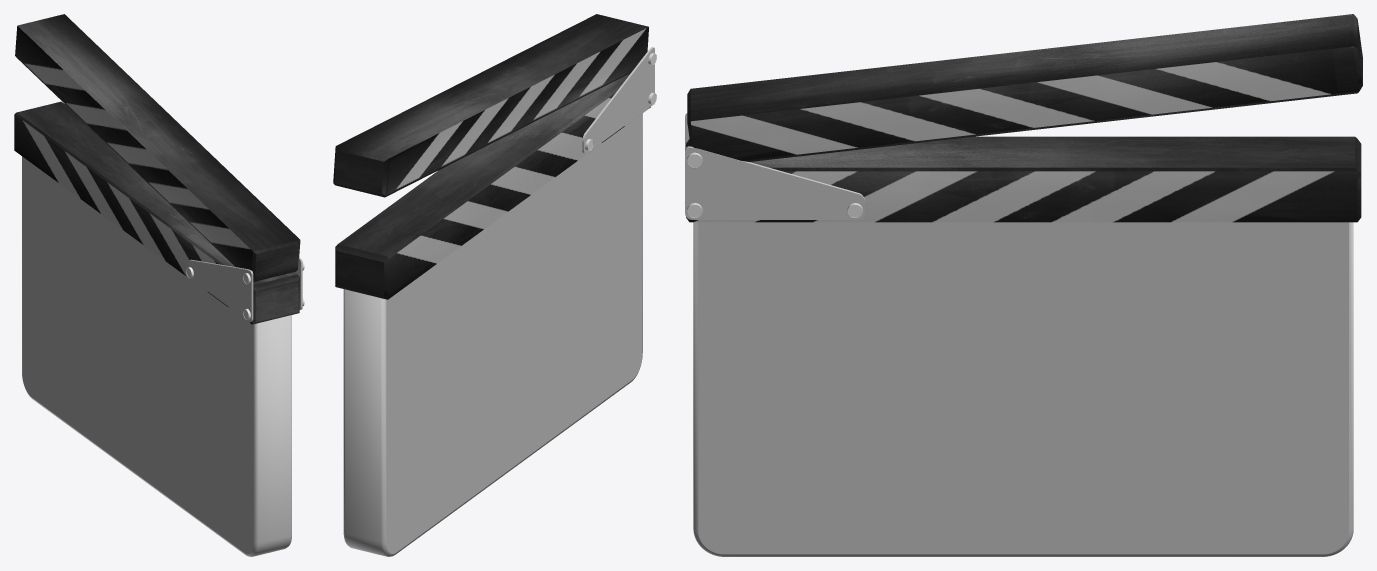
File: klaps2.fbx
The picture shows the model from 3 angles, left to right: view 1: azimuth 30°, elevation 25°; view 2: azimuth 150°, elevation 25°; view 3: azimuth 270°, elevation 25°; orthographic projection. The views are drawn at different scales.
Visible parts, largest first — view 1: Cube, Cube.002, Cube.001, Cube.005; view 2: Cube, Cube.002, Cube.001, Cube.005; view 3: Cube, Cube.002, Cube.001, Cube.003.
Boxes of the visible parts, <box> form: Cube: <box>22,156,291,556</box>; Cube.002: <box>15,14,300,281</box>; Cube.001: <box>14,101,299,324</box>; Cube.005: <box>187,259,253,321</box>; Cube: <box>343,113,642,556</box>; Cube.002: <box>333,14,648,197</box>; Cube.001: <box>335,73,650,299</box>; Cube.005: <box>582,47,654,153</box>; Cube: <box>693,222,1353,556</box>; Cube.002: <box>687,14,1362,161</box>; Cube.001: <box>686,136,1361,222</box>; Cube.003: <box>685,146,865,219</box>.
Bounding box in the file's own units: 38.49 × 241 × 286.
